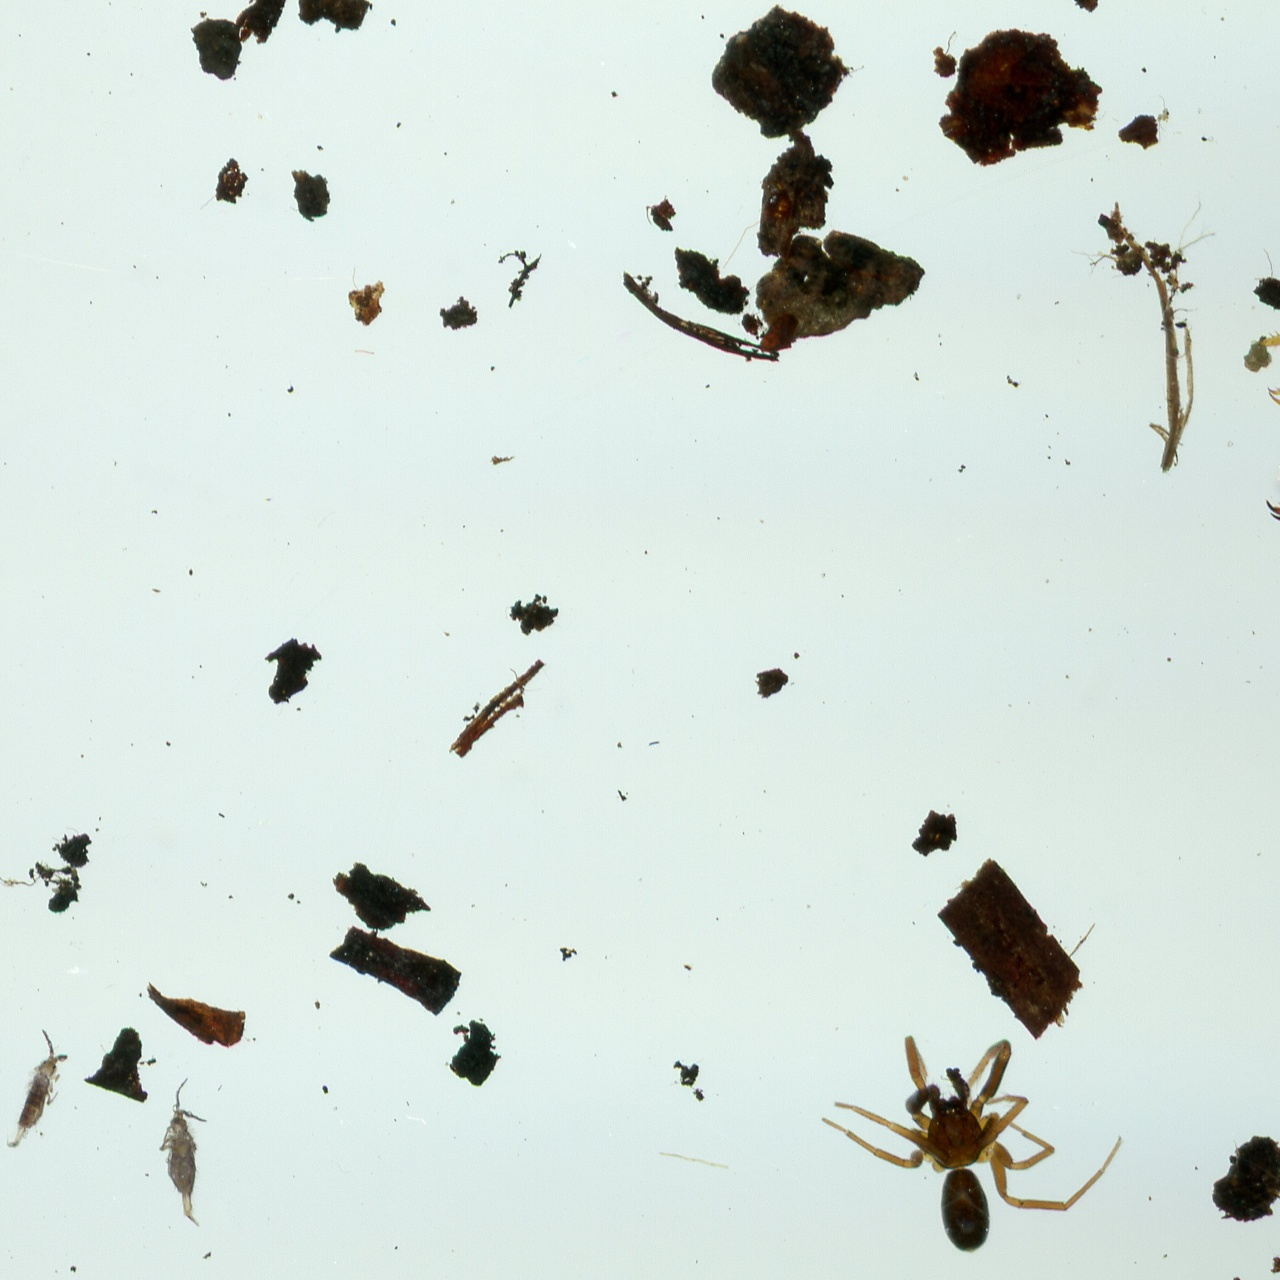arthropod: (820, 1036, 1126, 1250), (158, 1074, 210, 1241), (6, 1027, 70, 1150)
